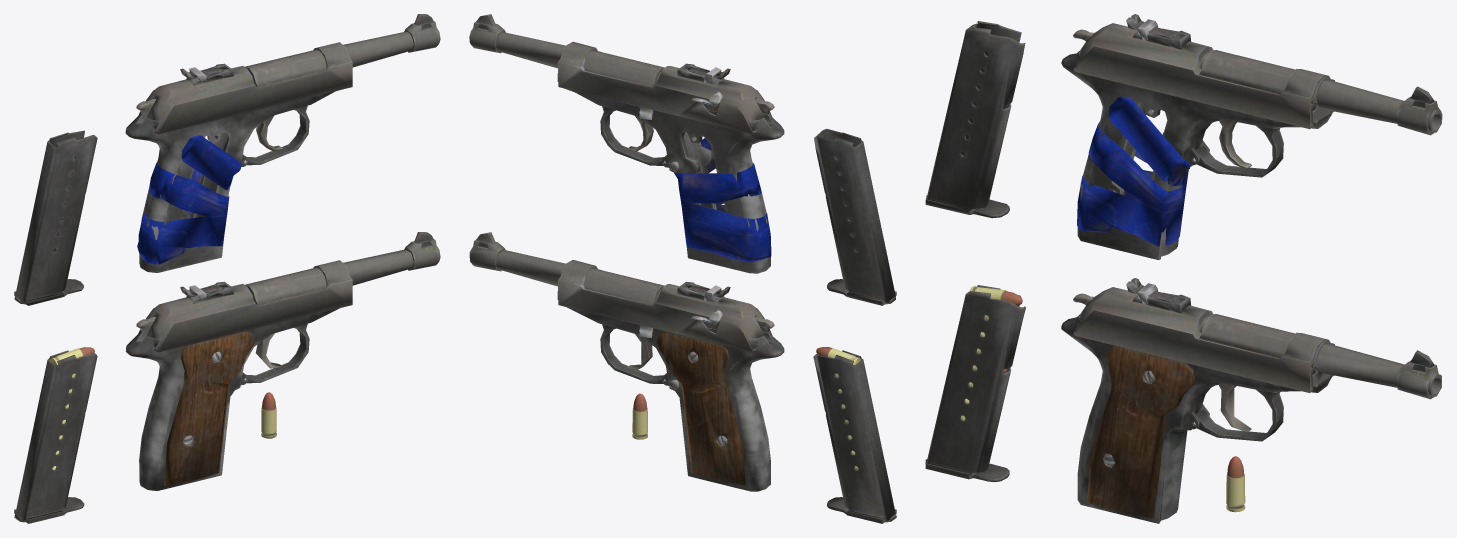
File: pistol.glb
The picture shows the model from 3 angles, left to right: view 1: azimuth 30°, elevation 25°; view 2: azimuth 150°, elevation 25°; view 3: azimuth 330°, elevation 25°; orthographic projection. The views are drawn at different scales.
Parts seen in each view (by area): view 1: service_pistol_pistol_b, service_pistol_pistol_a, service_pistol_magazine_loaded, service_pistol_magazine_empty, service_pistol_slide_b, service_pistol_slide_a, service_pistol_bullet; view 2: service_pistol_pistol_b, service_pistol_pistol_a, service_pistol_magazine_loaded, service_pistol_magazine_empty, service_pistol_slide_b, service_pistol_slide_a, service_pistol_bullet; view 3: service_pistol_pistol_a, service_pistol_pistol_b, service_pistol_magazine_loaded, service_pistol_magazine_empty, service_pistol_slide_b, service_pistol_slide_a, service_pistol_bullet, service_pistol_trigger_a, service_pistol_trigger_b.
Part boxes in pixels (x1,y1,x2,y2): service_pistol_pistol_b: (125, 14, 440, 272); service_pistol_pistol_a: (125, 232, 440, 490); service_pistol_magazine_loaded: (14, 347, 97, 523); service_pistol_magazine_empty: (14, 130, 97, 305); service_pistol_slide_b: (141, 42, 352, 134); service_pistol_slide_a: (141, 260, 352, 352); service_pistol_bullet: (261, 392, 276, 438); service_pistol_pistol_b: (469, 14, 784, 273); service_pistol_pistol_a: (469, 232, 784, 491); service_pistol_magazine_loaded: (813, 347, 896, 523); service_pistol_magazine_empty: (814, 129, 896, 305); service_pistol_slide_b: (558, 41, 771, 134); service_pistol_slide_a: (558, 260, 772, 352); service_pistol_bullet: (632, 393, 647, 439); service_pistol_pistol_a: (1061, 314, 1441, 523); service_pistol_pistol_b: (1061, 50, 1442, 259); service_pistol_magazine_loaded: (925, 285, 1025, 481); service_pistol_magazine_empty: (925, 21, 1025, 218); service_pistol_slide_b: (1074, 14, 1334, 129); service_pistol_slide_a: (1074, 278, 1334, 392); service_pistol_bullet: (1226, 456, 1245, 512); service_pistol_trigger_a: (1219, 383, 1251, 432); service_pistol_trigger_b: (1219, 120, 1251, 169).
Bounding box in the file's own units: 0.3016 × 0.2807 × 0.0318.
1 material, 1 textured.
